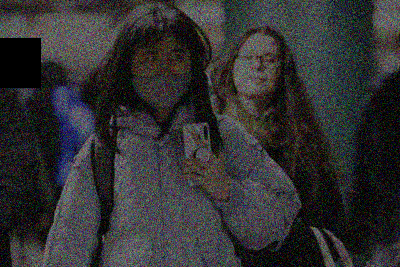with_mask: (129, 49, 194, 109)
without_mask: (233, 48, 283, 98)
